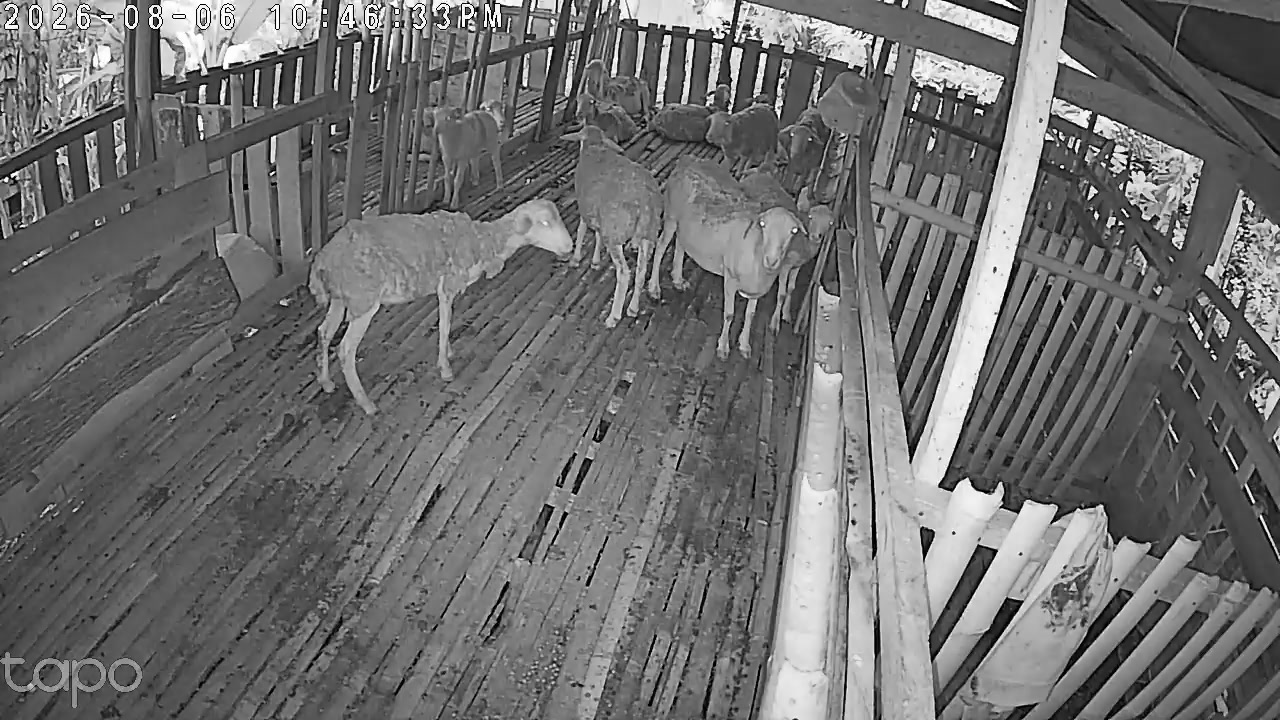sheep: (315, 205, 585, 390), (650, 160, 830, 360), (575, 120, 665, 320), (715, 99, 785, 179), (410, 90, 470, 170)
